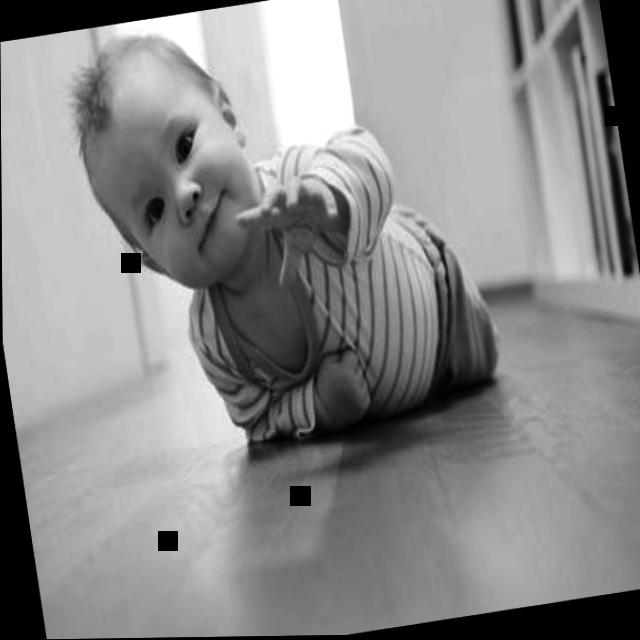Fall-Detected: (50, 0, 545, 504)
